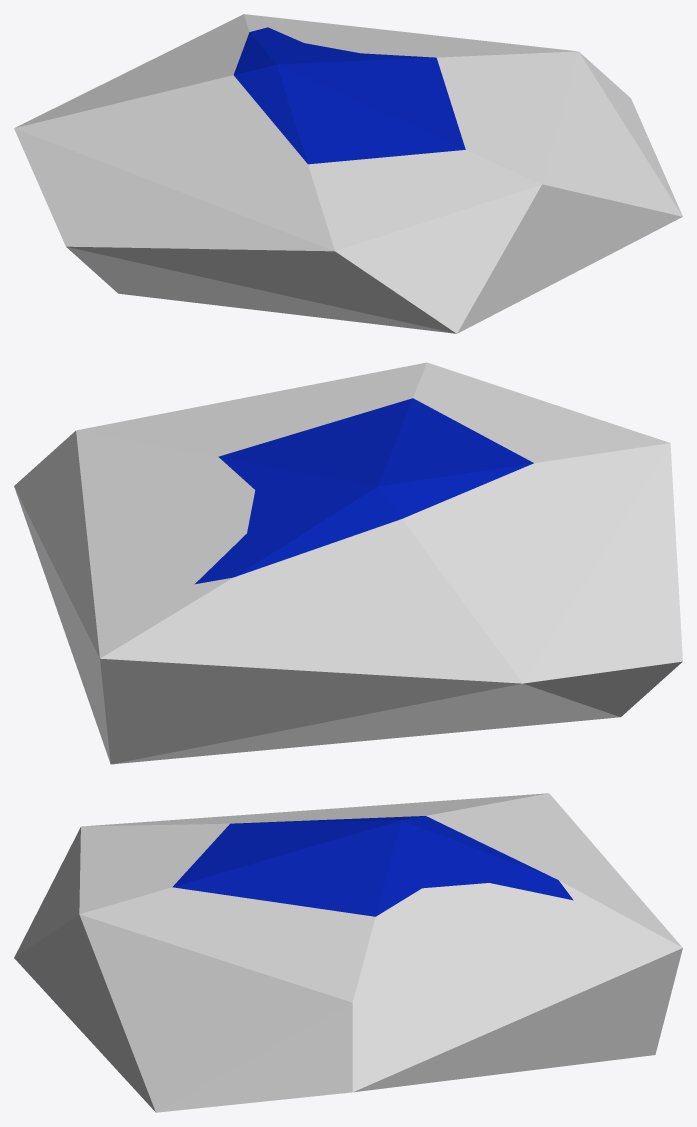
The model's file is Rune_Water.fbx.
3 views of the same model, one above another, from view 1: azimuth 30°, elevation 25°; view 2: azimuth 150°, elevation 25°; view 3: azimuth 270°, elevation 25° (orthographic). The views are drawn at different scales.
Visible parts, largest first — view 1: Rune_Water; view 2: Rune_Water; view 3: Rune_Water.
Part boxes in pixels (bbox=[...]): Rune_Water: bbox=[14, 14, 682, 333]; Rune_Water: bbox=[14, 362, 682, 764]; Rune_Water: bbox=[14, 793, 682, 1112].
Size of the model in its own units: 20.29 by 7.05 by 19.8.
